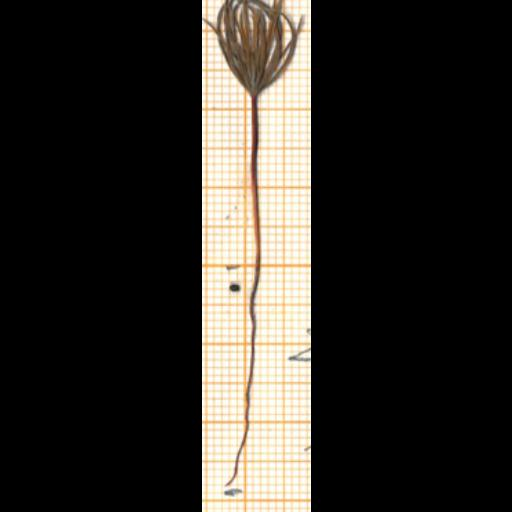flowerPinus: (213, 0, 302, 97)
rootPinus: (225, 284, 254, 487)
stemPinus: (249, 95, 260, 268)
